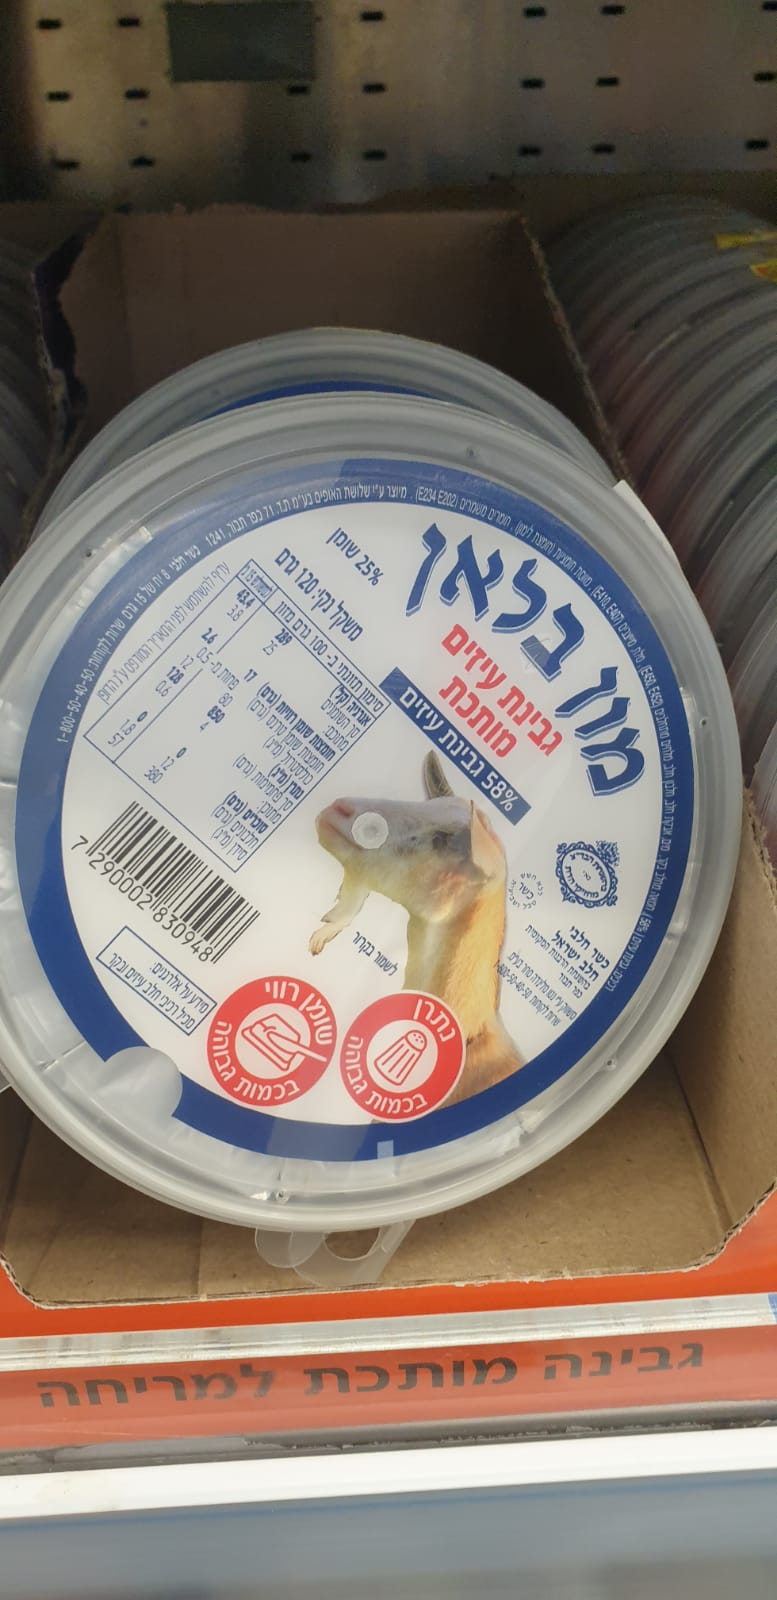fat: (205, 976, 337, 1110)
salt: (340, 993, 465, 1126)
